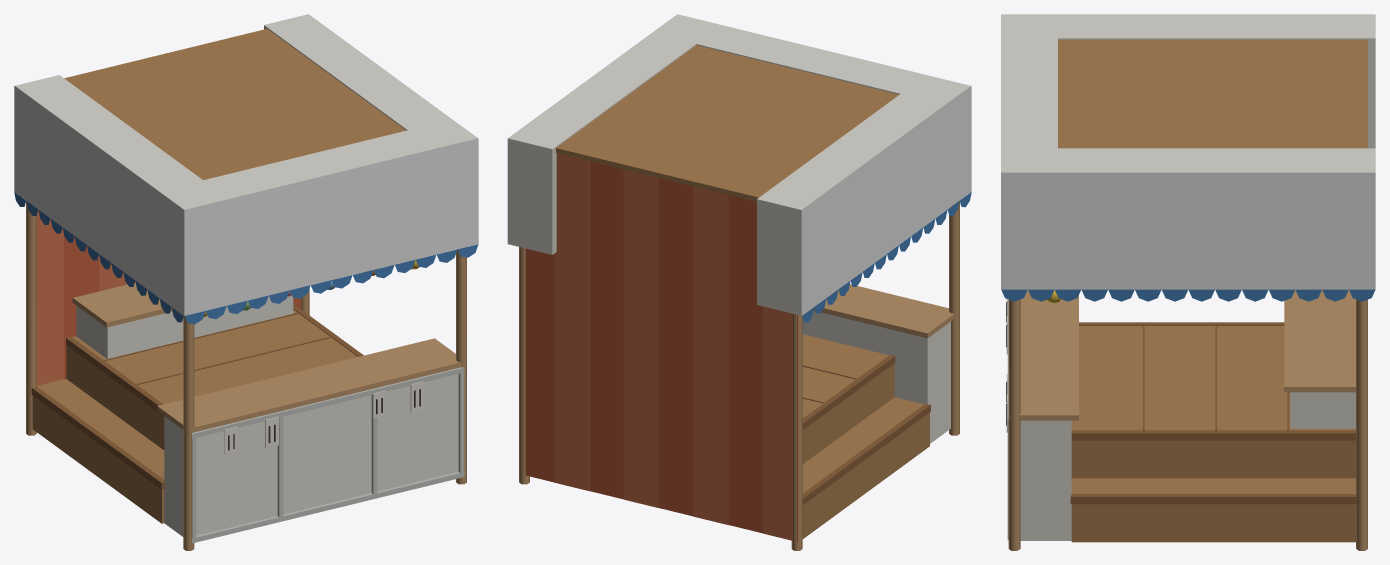
Rendered from stall_white.glb.
The picture shows the model from 3 angles, left to right: view 1: azimuth 30°, elevation 25°; view 2: azimuth 150°, elevation 25°; view 3: azimuth 270°, elevation 25°; orthographic projection. The views are drawn at different scales.
Parts seen in each view (by area): view 1: stall_white, stall_white_label, stall_white_board, stall_white_label2; view 2: stall_white, stall_white_board, stall_white_label2; view 3: stall_white, stall_white_label1, stall_white_board.
Boxes of the visible parts, x1=… form: stall_white: x1=14, y1=29, x2=478, y2=550; stall_white_label: x1=184, y1=138, x2=478, y2=315; stall_white_board: x1=15, y1=14, x2=477, y2=315; stall_white_label2: x1=14, y1=86, x2=183, y2=315; stall_white: x1=519, y1=45, x2=971, y2=550; stall_white_board: x1=507, y1=14, x2=970, y2=315; stall_white_label2: x1=802, y1=86, x2=971, y2=315; stall_white: x1=1001, y1=39, x2=1375, y2=550; stall_white_label1: x1=1001, y1=172, x2=1375, y2=289; stall_white_board: x1=1001, y1=14, x2=1375, y2=172.
Bounding box in the file's own units: 2.51 × 2.81 × 2.51.
